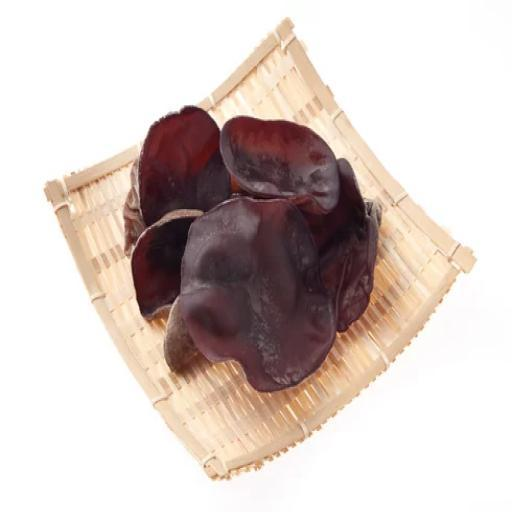mushroom: (172, 189, 341, 397), (292, 154, 396, 332), (130, 105, 243, 243), (220, 109, 344, 215), (125, 201, 226, 325)
